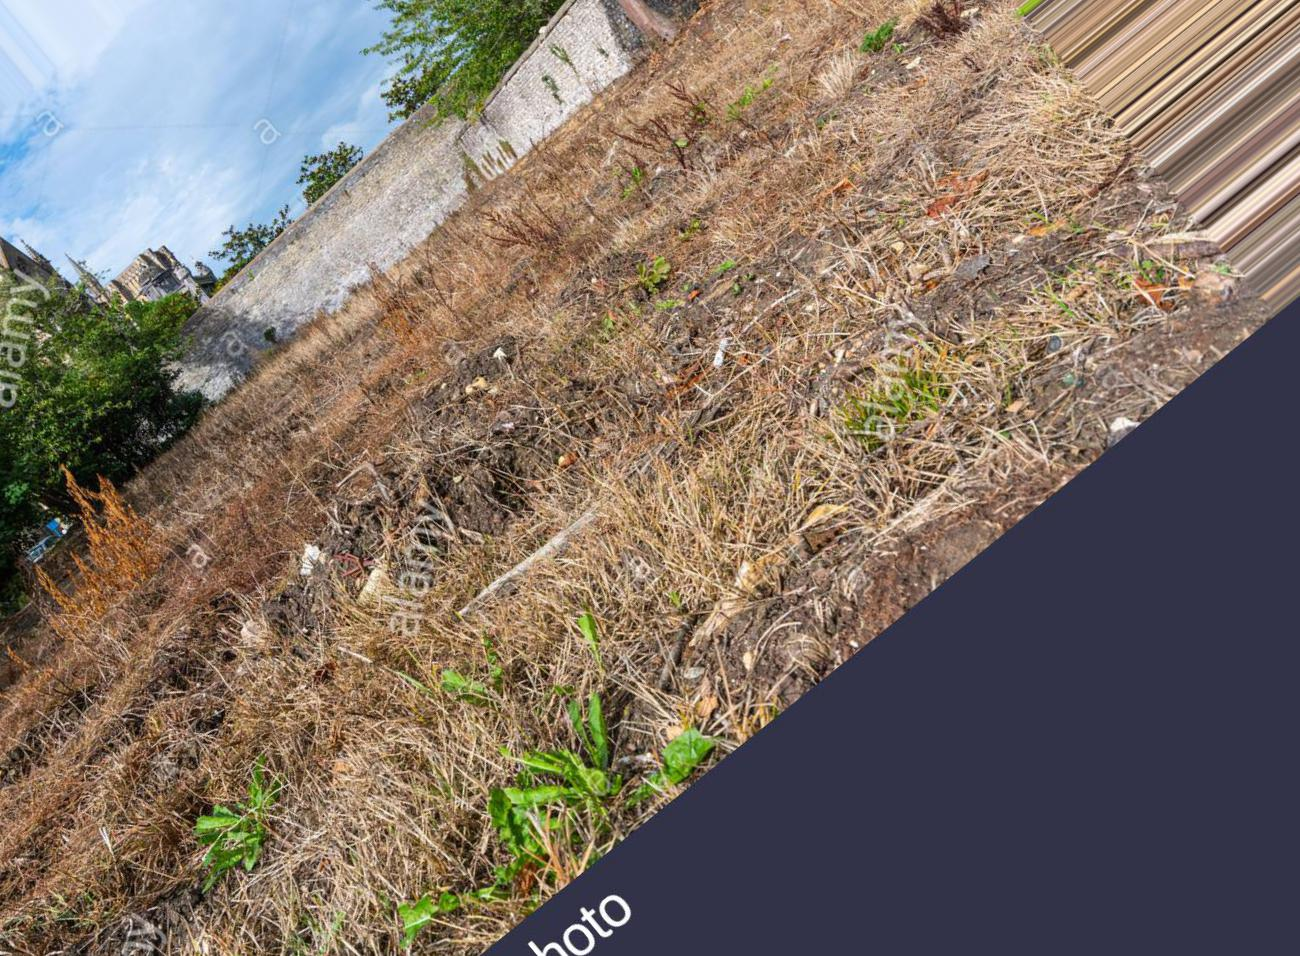patch: (580, 99, 1073, 373), (292, 713, 513, 857), (657, 452, 871, 591)
